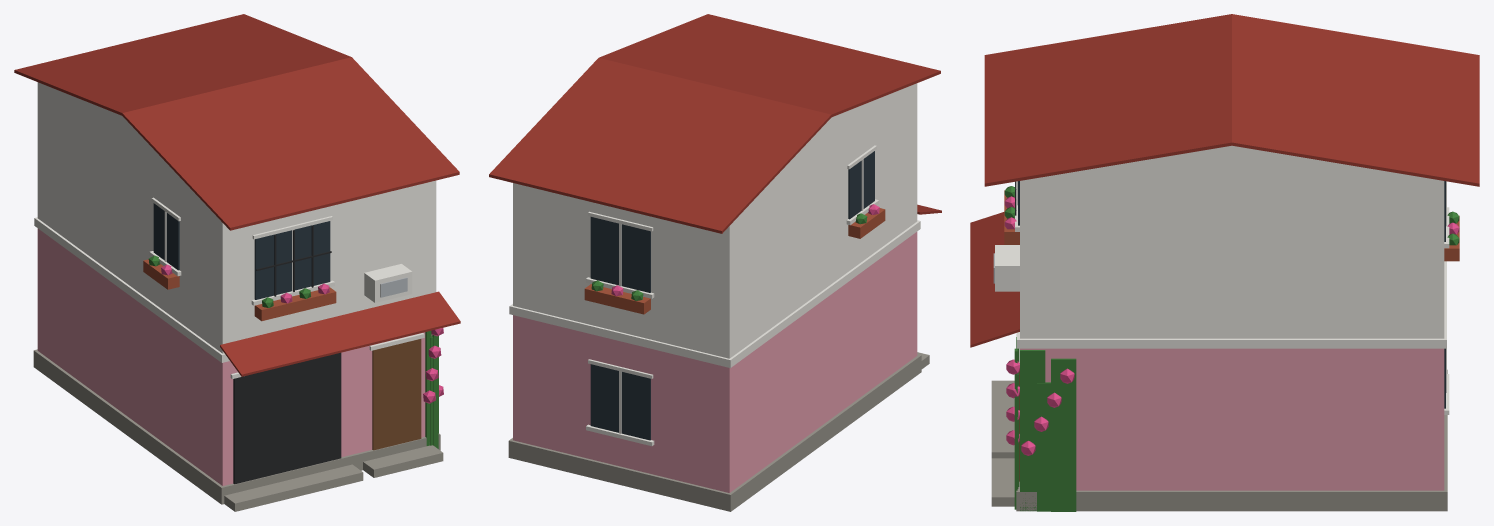
File: BAY_F_TwoStorey_O.glb
The picture shows the model from 3 angles, left to right: view 1: azimuth 30°, elevation 25°; view 2: azimuth 150°, elevation 25°; view 3: azimuth 270°, elevation 25°; orthographic projection. The views are drawn at different scales.
Parts seen in each view (by area): view 1: BAY_F_TwoStorey_O; view 2: BAY_F_TwoStorey_O; view 3: BAY_F_TwoStorey_O.
Boxes of the visible parts, x1,y1,x2,y2 form: BAY_F_TwoStorey_O: (14, 14, 460, 511); BAY_F_TwoStorey_O: (489, 14, 941, 511); BAY_F_TwoStorey_O: (970, 14, 1479, 511).
Size of the model in its own units: 4.42 by 5.8 by 7.2.
Materials: 1 (1 with a texture image).
